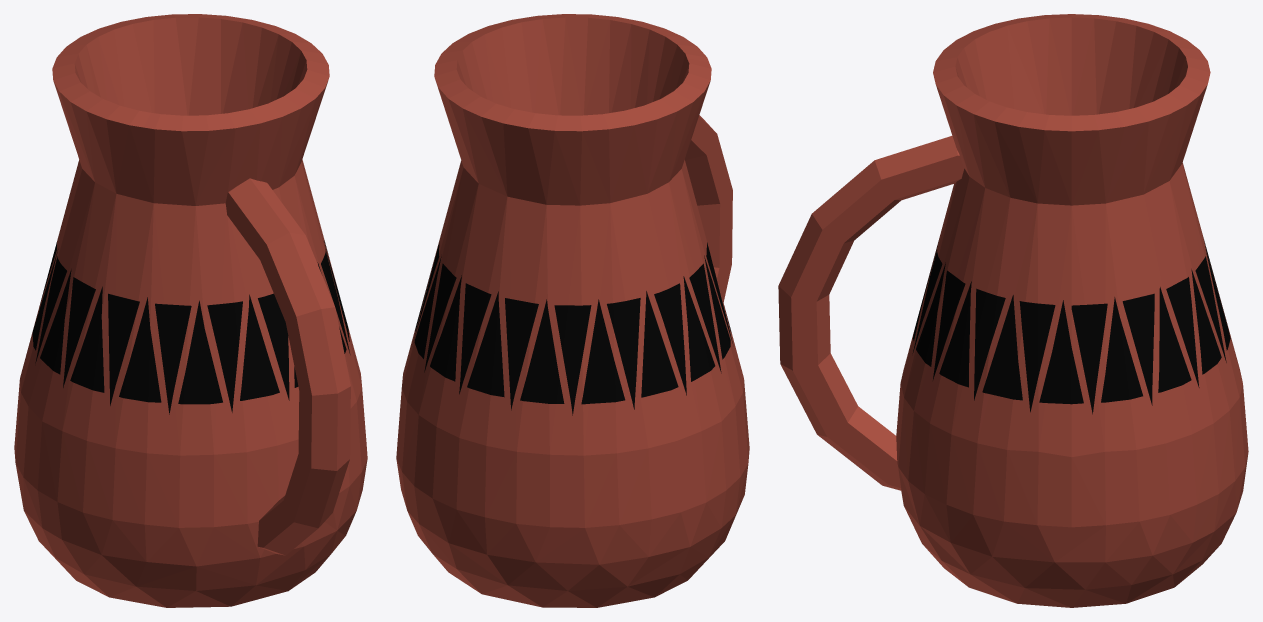
File: Pottery 24_2b.fbx
The picture shows the model from 3 angles, left to right: view 1: azimuth 30°, elevation 25°; view 2: azimuth 150°, elevation 25°; view 3: azimuth 270°, elevation 25°; orthographic projection.
Visible parts, largest first — view 1: Pottery 24_2b.001, Pottery 24_2b.005, Pottery 24_2b, Pottery 24_2b.004, Pottery 24_2b.003, Pottery 24_2b.002, Pottery 24_2b.007; view 2: Pottery 24_2b.004, Pottery 24_2b.007, Pottery 24_2b.005, Pottery 24_2b.006, Pottery 24_2b.001, Pottery 24_2b, Pottery 24_2b.003, Pottery 24_2b.002; view 3: Pottery 24_2b.003, Pottery 24_2b.002, Pottery 24_2b.001, Pottery 24_2b.004, Pottery 24_2b.006, Pottery 24_2b, Pottery 24_2b.005.
Boxes of the visible parts, x1,y1,x2,y2 form: Pottery 24_2b.001: (143,88,350,585); Pottery 24_2b.005: (21,73,153,440); Pottery 24_2b: (24,366,345,607); Pottery 24_2b.004: (52,14,225,250); Pottery 24_2b.003: (221,16,328,113); Pottery 24_2b.002: (294,60,367,535); Pottery 24_2b.007: (14,344,86,527); Pottery 24_2b.004: (434,79,657,415); Pottery 24_2b.007: (487,386,742,564); Pottery 24_2b.005: (615,58,742,440); Pottery 24_2b.006: (396,291,555,554); Pottery 24_2b.001: (560,14,732,301); Pottery 24_2b: (407,331,749,607); Pottery 24_2b.003: (396,26,511,456); Pottery 24_2b.002: (489,14,565,115); Pottery 24_2b.003: (1004,101,1191,562); Pottery 24_2b.002: (908,94,1037,574); Pottery 24_2b.001: (778,27,1012,504); Pottery 24_2b.004: (1099,18,1235,356); Pottery 24_2b.006: (1153,321,1248,555); Pottery 24_2b: (903,482,1235,607); Pottery 24_2b.005: (984,14,1124,115).
Size of the model in its own units: 30.34 by 45.97 by 40.35.
